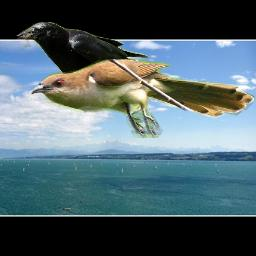Crow: (16, 22, 150, 99)
Cuckoo: (30, 59, 256, 138)
